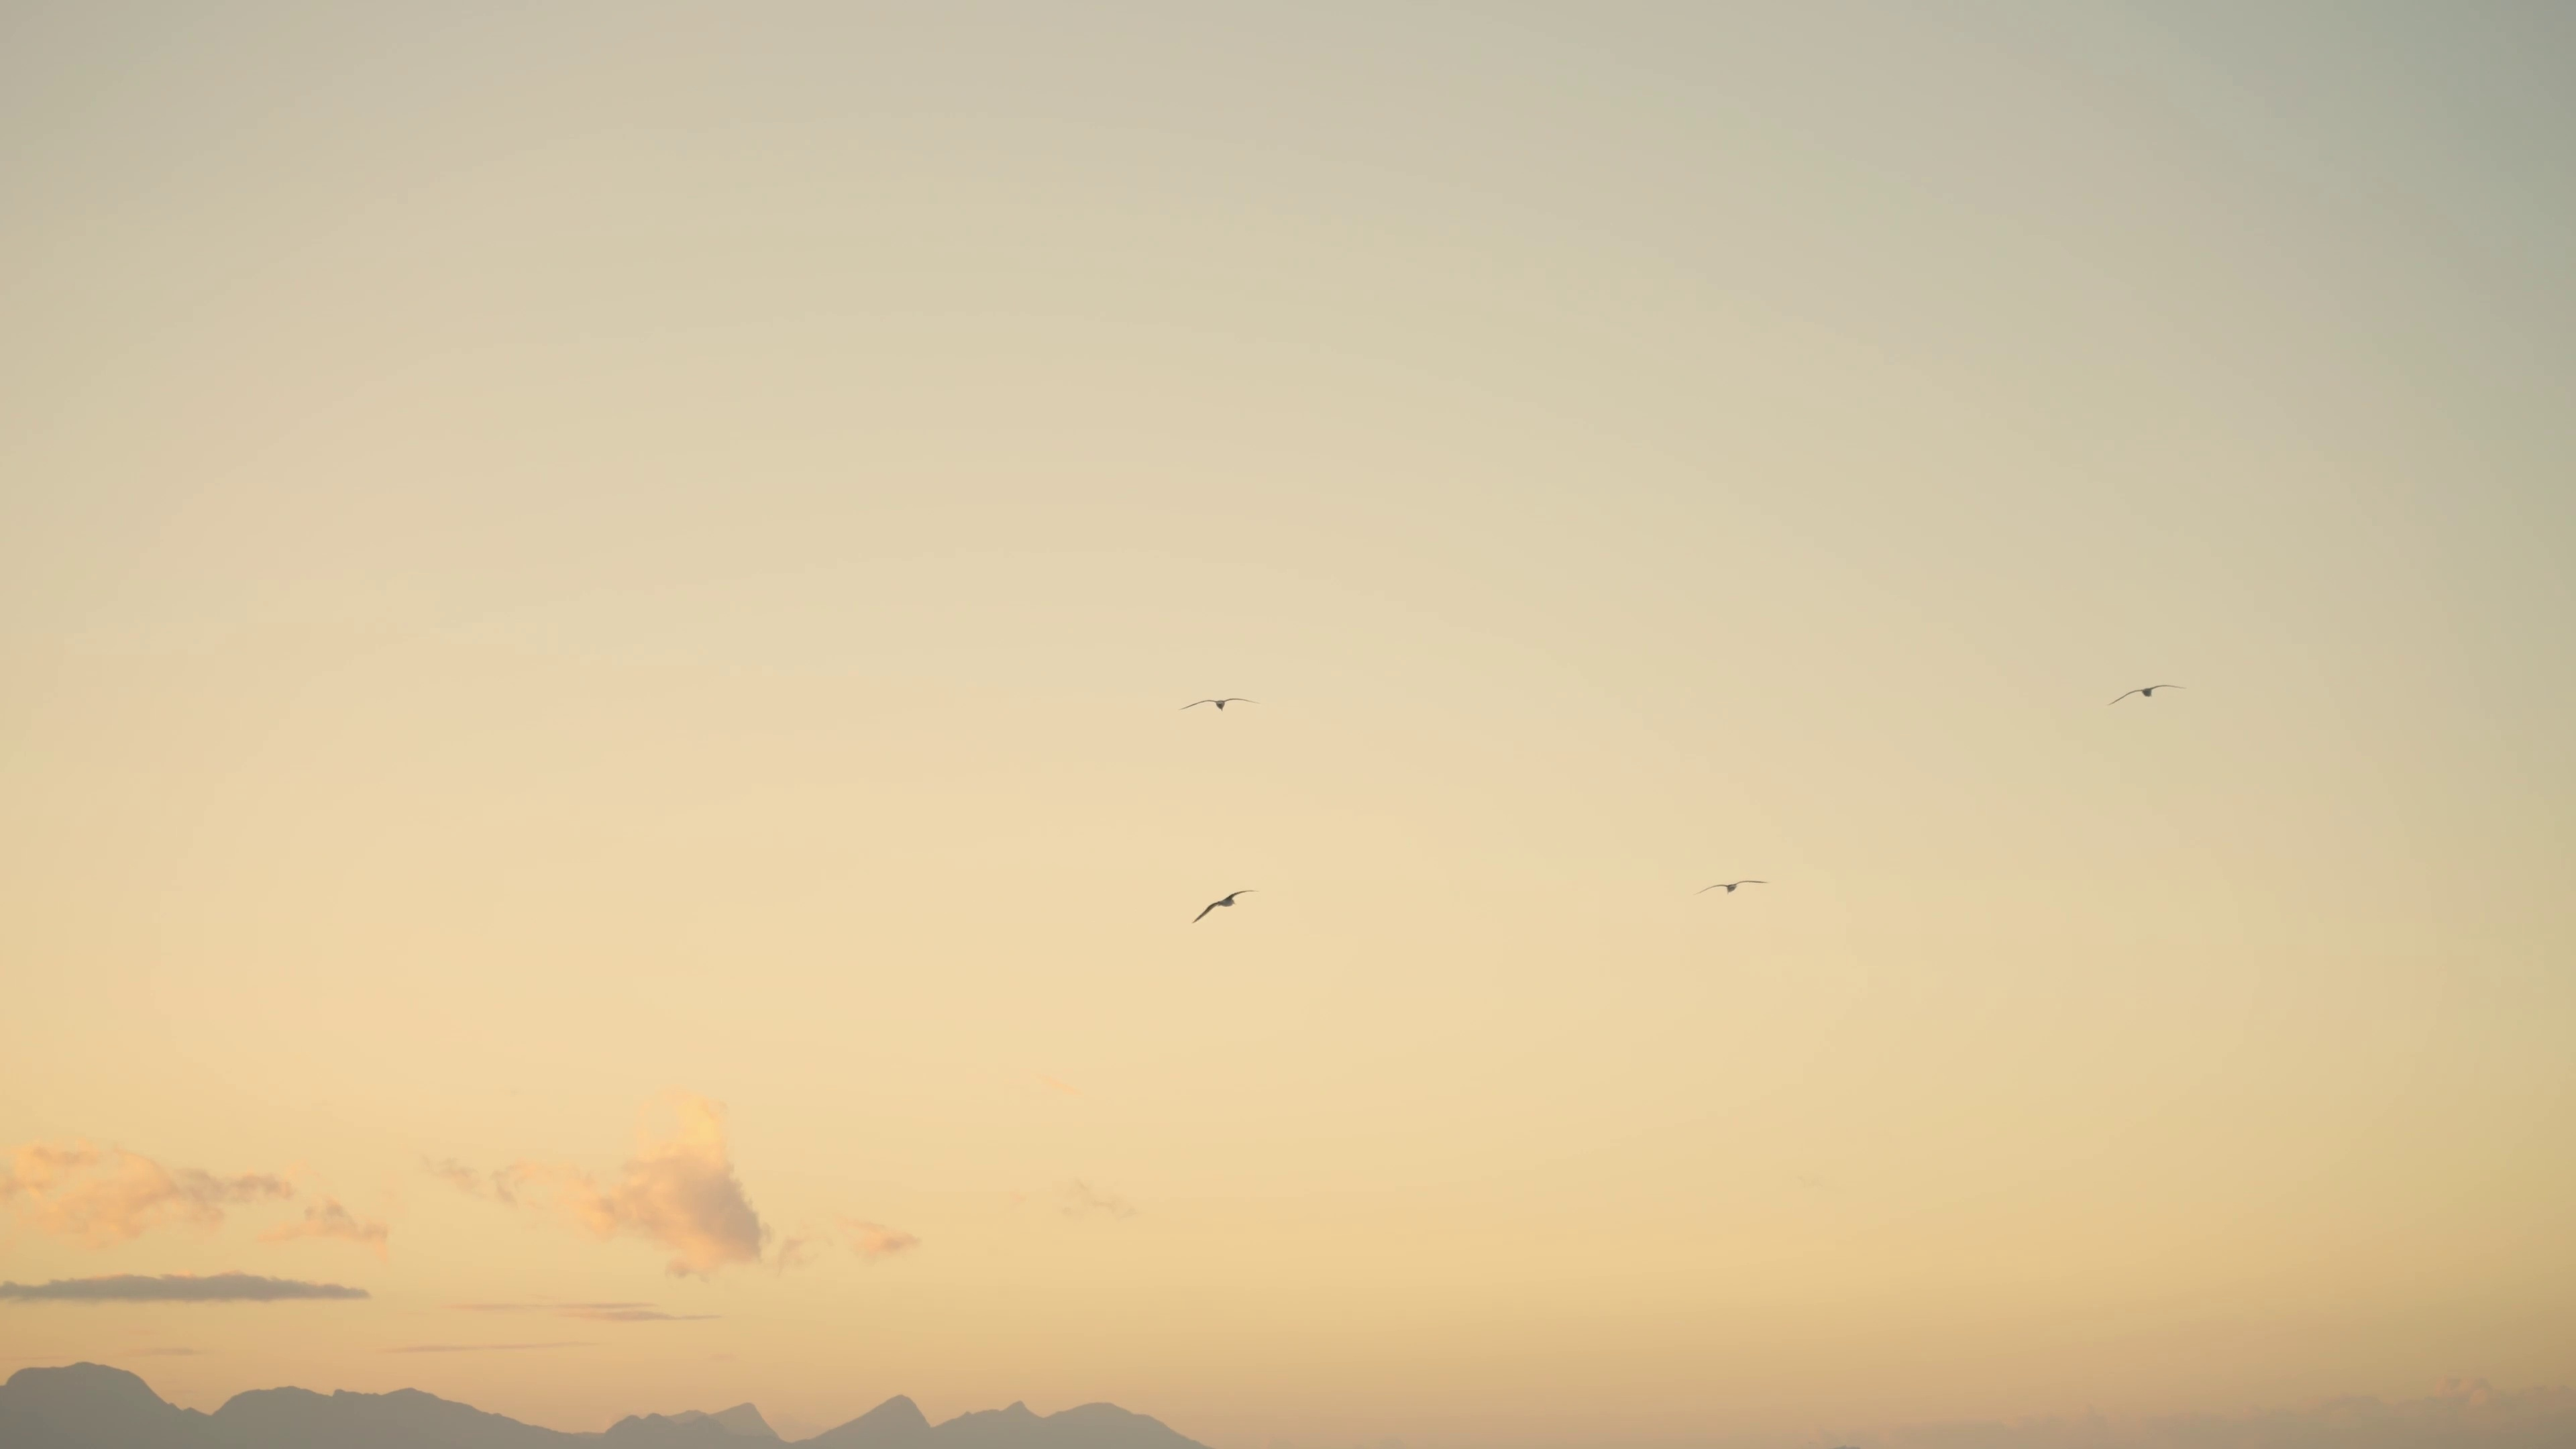bird: (1191, 890, 1258, 922), (2111, 685, 2183, 706), (1693, 878, 1767, 897), (1177, 697, 1263, 713)
